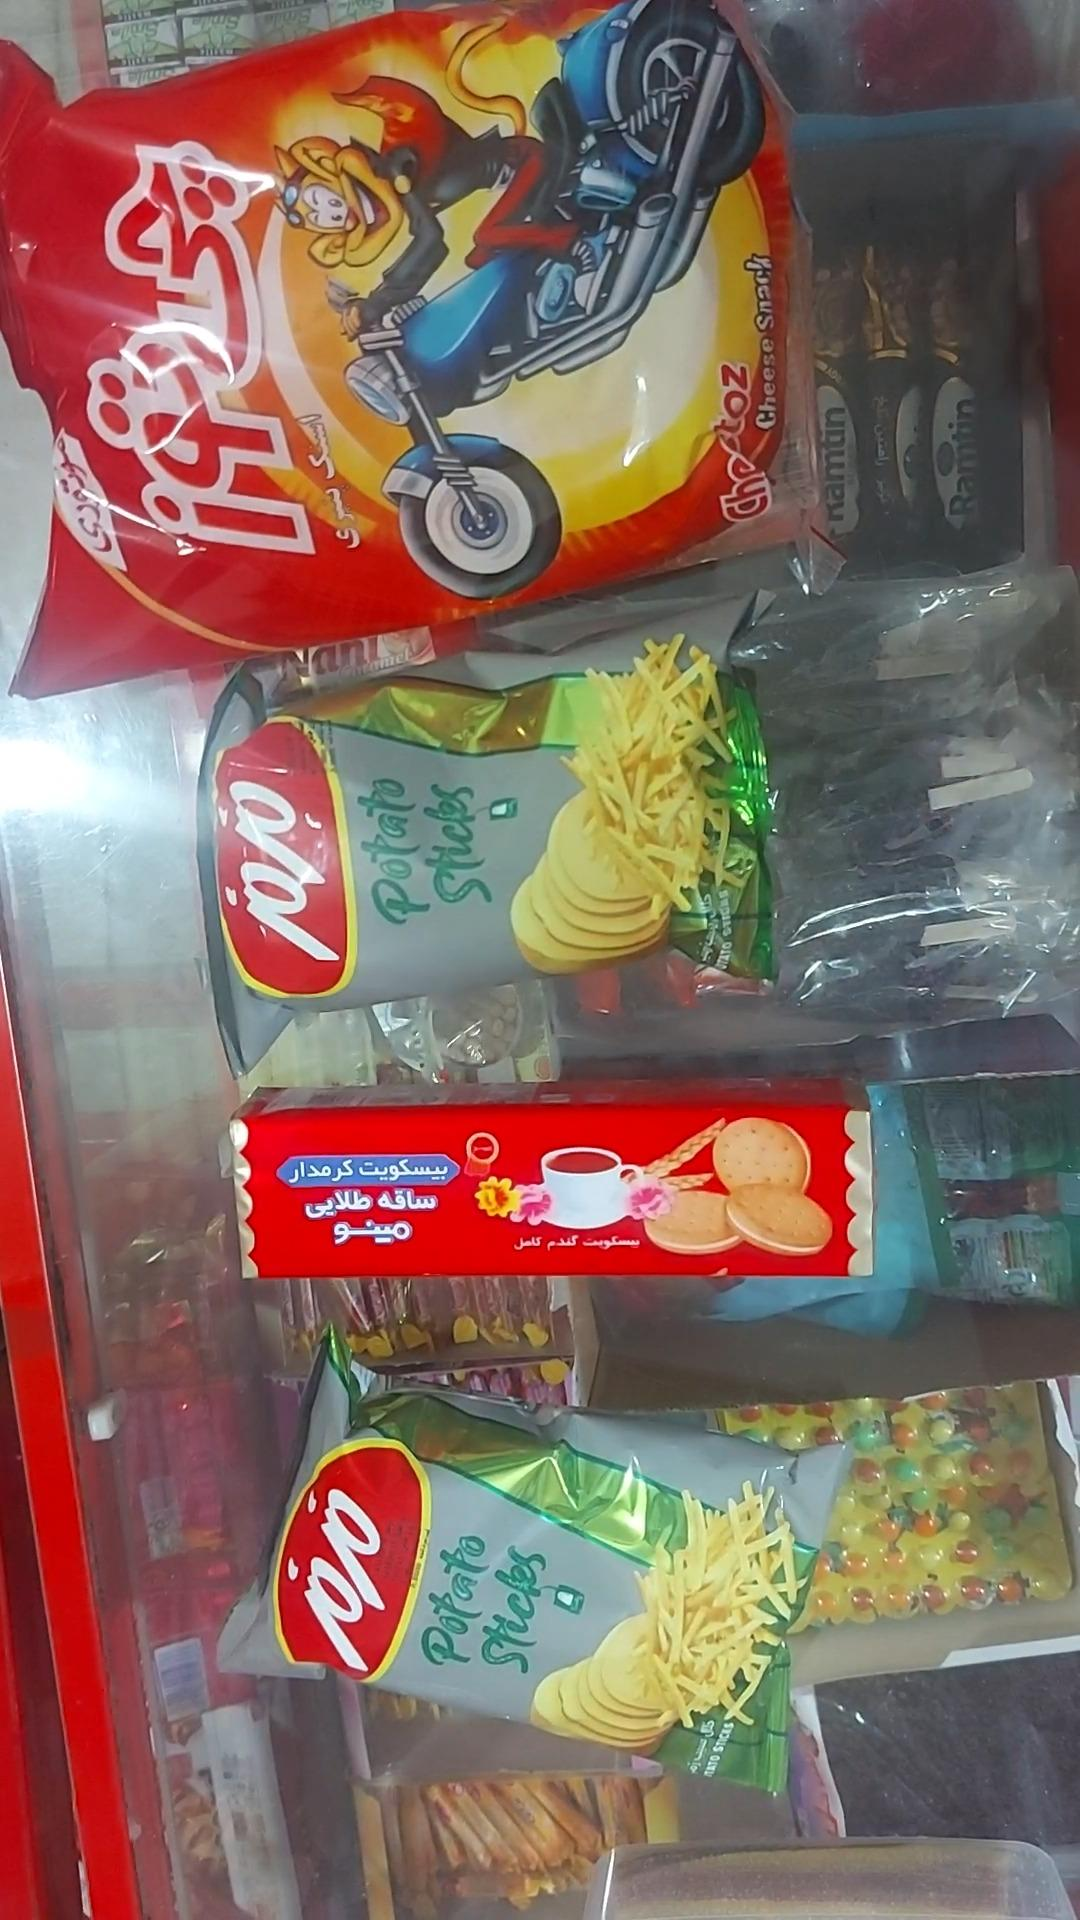Cheetoz snack 90g: (0, 0, 822, 696)
Maz Maz potato sticks: (222, 1337, 849, 1791), (198, 591, 782, 1077)
Minoo cream biscuit: (231, 1083, 872, 1279)
